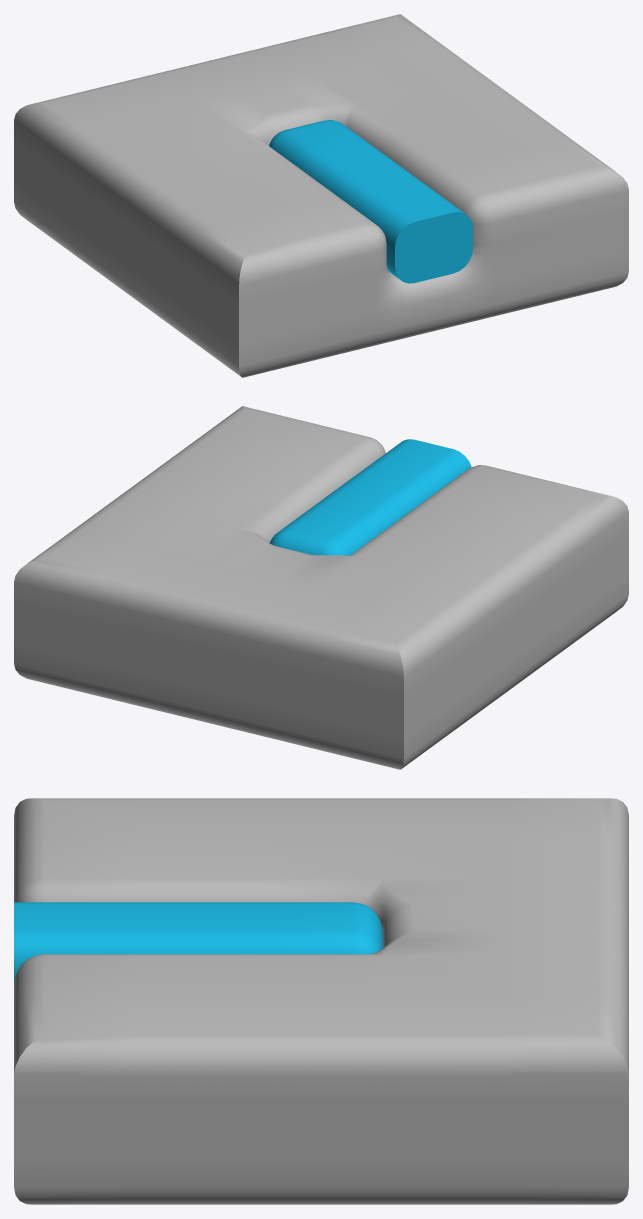
File: Piso 5.fbx
3 views of the same model, one above another, from view 1: azimuth 30°, elevation 25°; view 2: azimuth 150°, elevation 25°; view 3: azimuth 270°, elevation 25° (orthographic). The views are drawn at different scales.
Visible parts, largest first — view 1: Piso 5; view 2: Piso 5; view 3: Piso 5.
Part boxes in pixels (bbox=[...]): Piso 5: bbox=[14, 14, 628, 377]; Piso 5: bbox=[14, 406, 628, 769]; Piso 5: bbox=[14, 798, 628, 1204].
Bounding box in the file's own units: 200 × 60 × 200.
